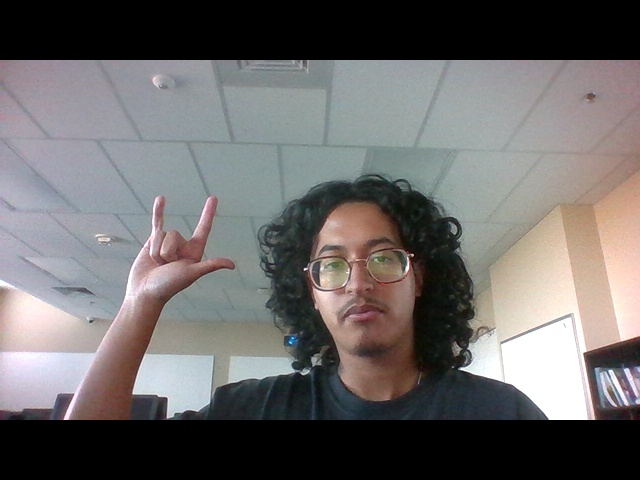iloveyou: (117, 184, 240, 315)
